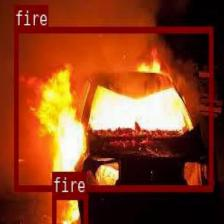fire: (13, 27, 212, 190), (52, 192, 86, 224)
